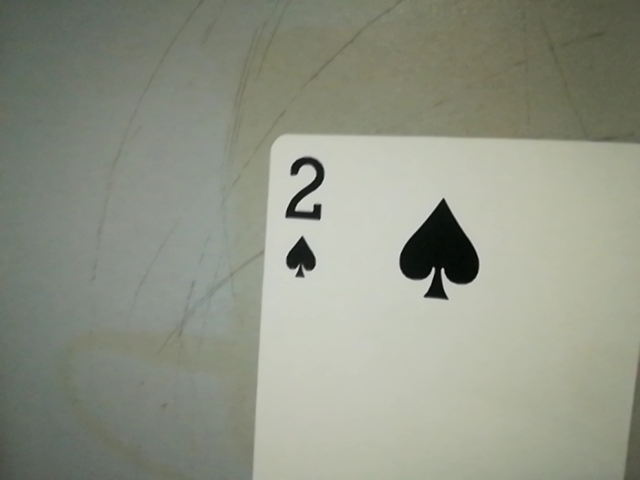ht 2: (268, 145, 342, 289)
